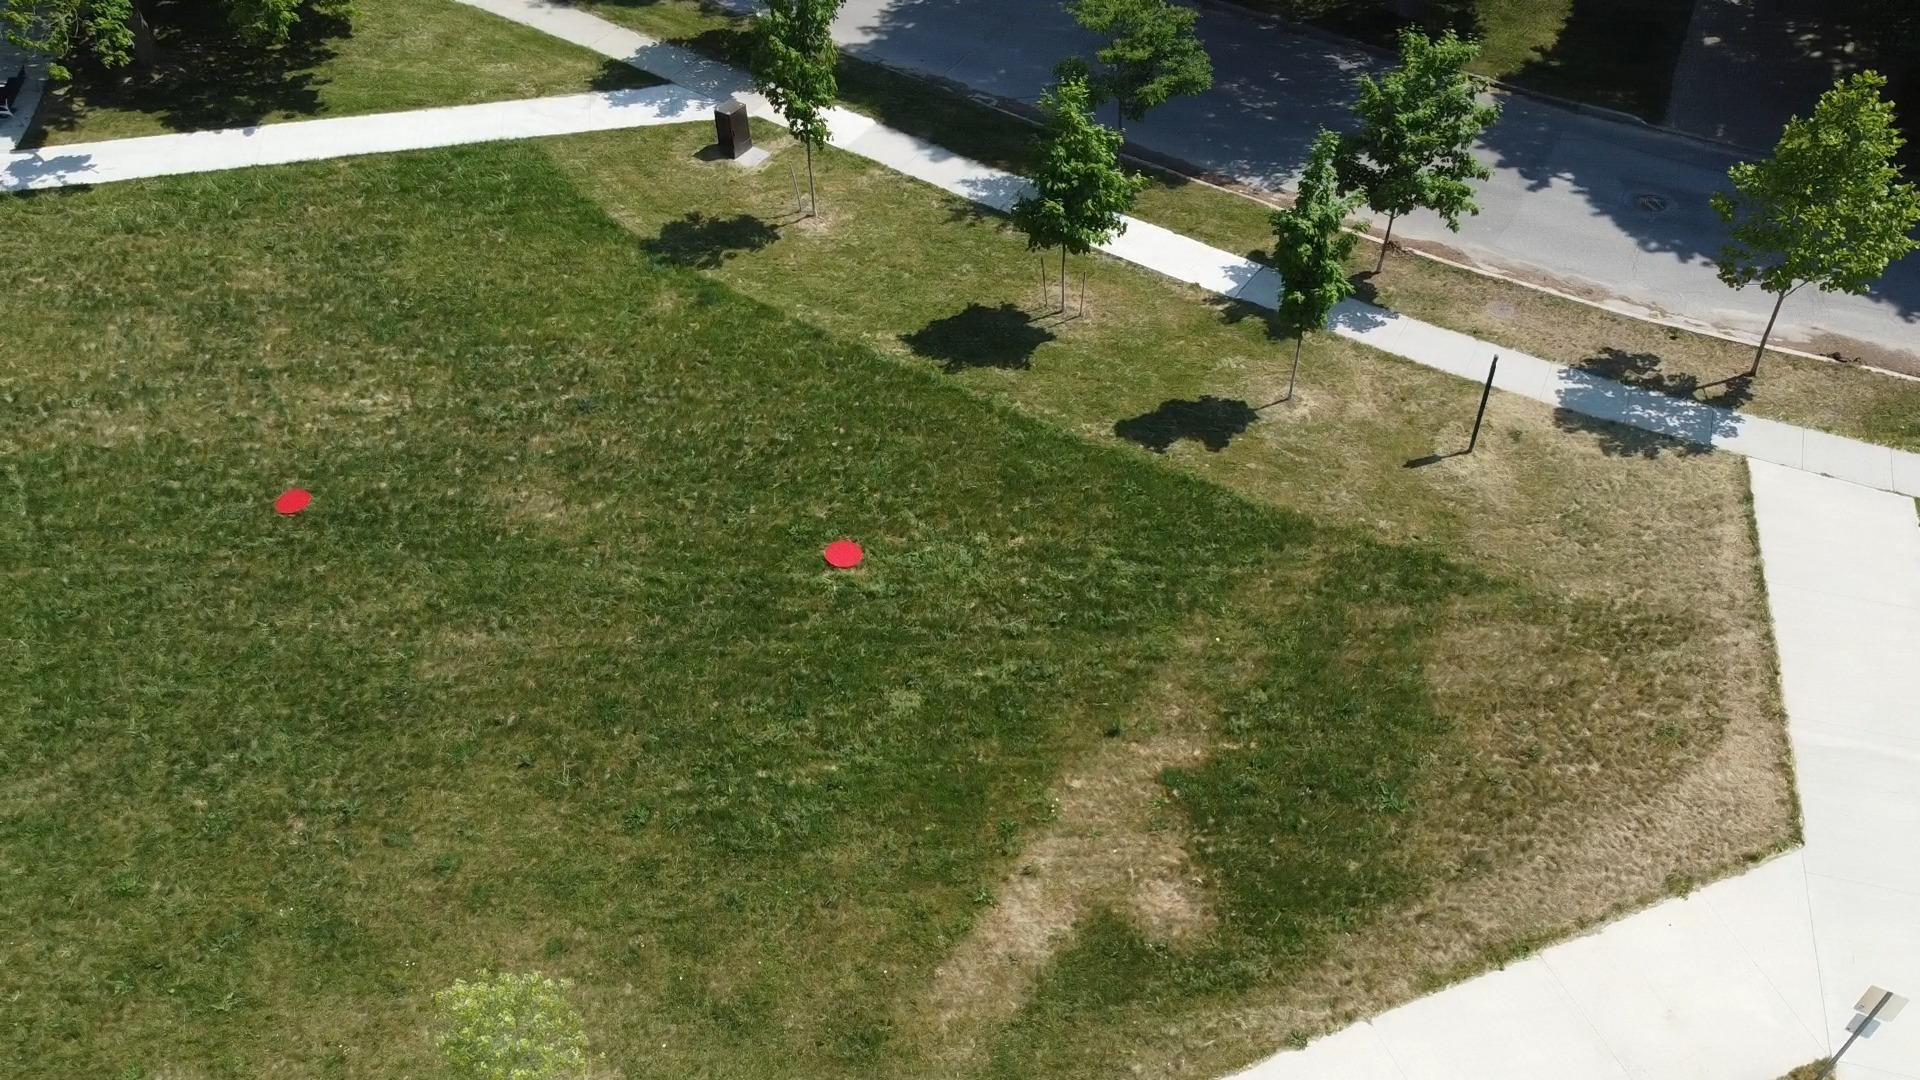Red: (823, 538, 864, 570), (273, 487, 313, 516)
